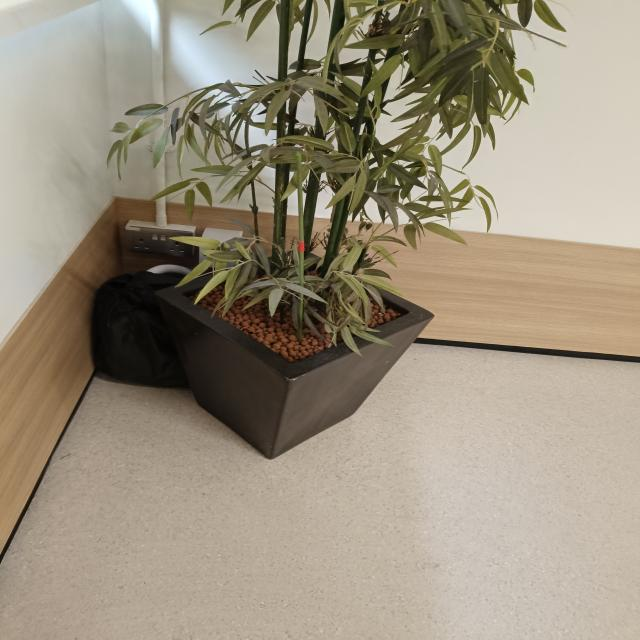Pot: (152, 246, 435, 460)
